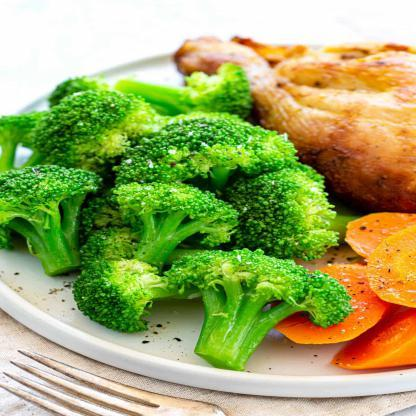broccoli: (0, 63, 354, 371)
